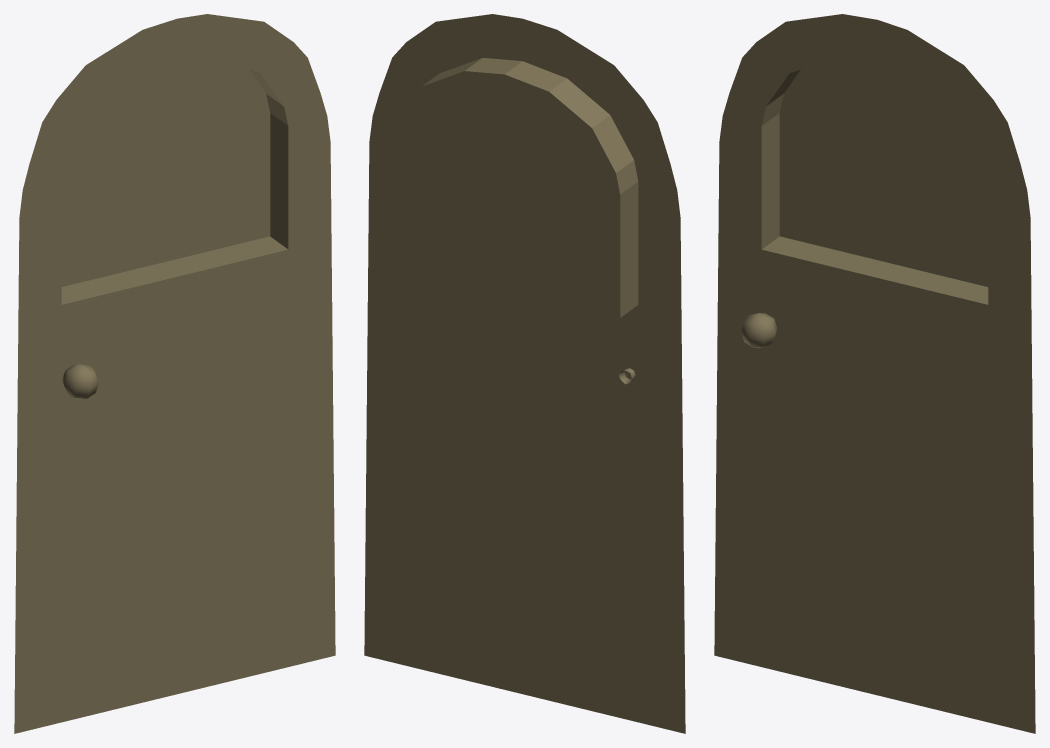
The model's file is DoorE_1.fbx.
3 views of the same model, side by side, from view 1: azimuth 30°, elevation 25°; view 2: azimuth 150°, elevation 25°; view 3: azimuth 330°, elevation 25° (orthographic).
Visible parts, largest first — view 1: DoorE_1; view 2: DoorE_1; view 3: DoorE_1.
Boxes of the visible parts, x1=… form: DoorE_1: x1=14, y1=14, x2=335, y2=733; DoorE_1: x1=364, y1=14, x2=685, y2=733; DoorE_1: x1=714, y1=14, x2=1035, y2=733.
Size of the model in its own units: 92.91 by 187 by 19.2.
